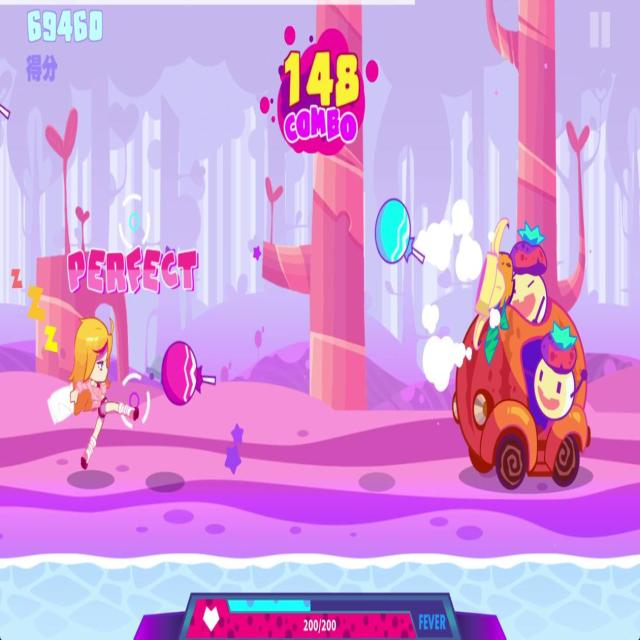hold: (452, 217, 594, 492)
tang: (159, 338, 216, 410), (372, 198, 426, 264)
